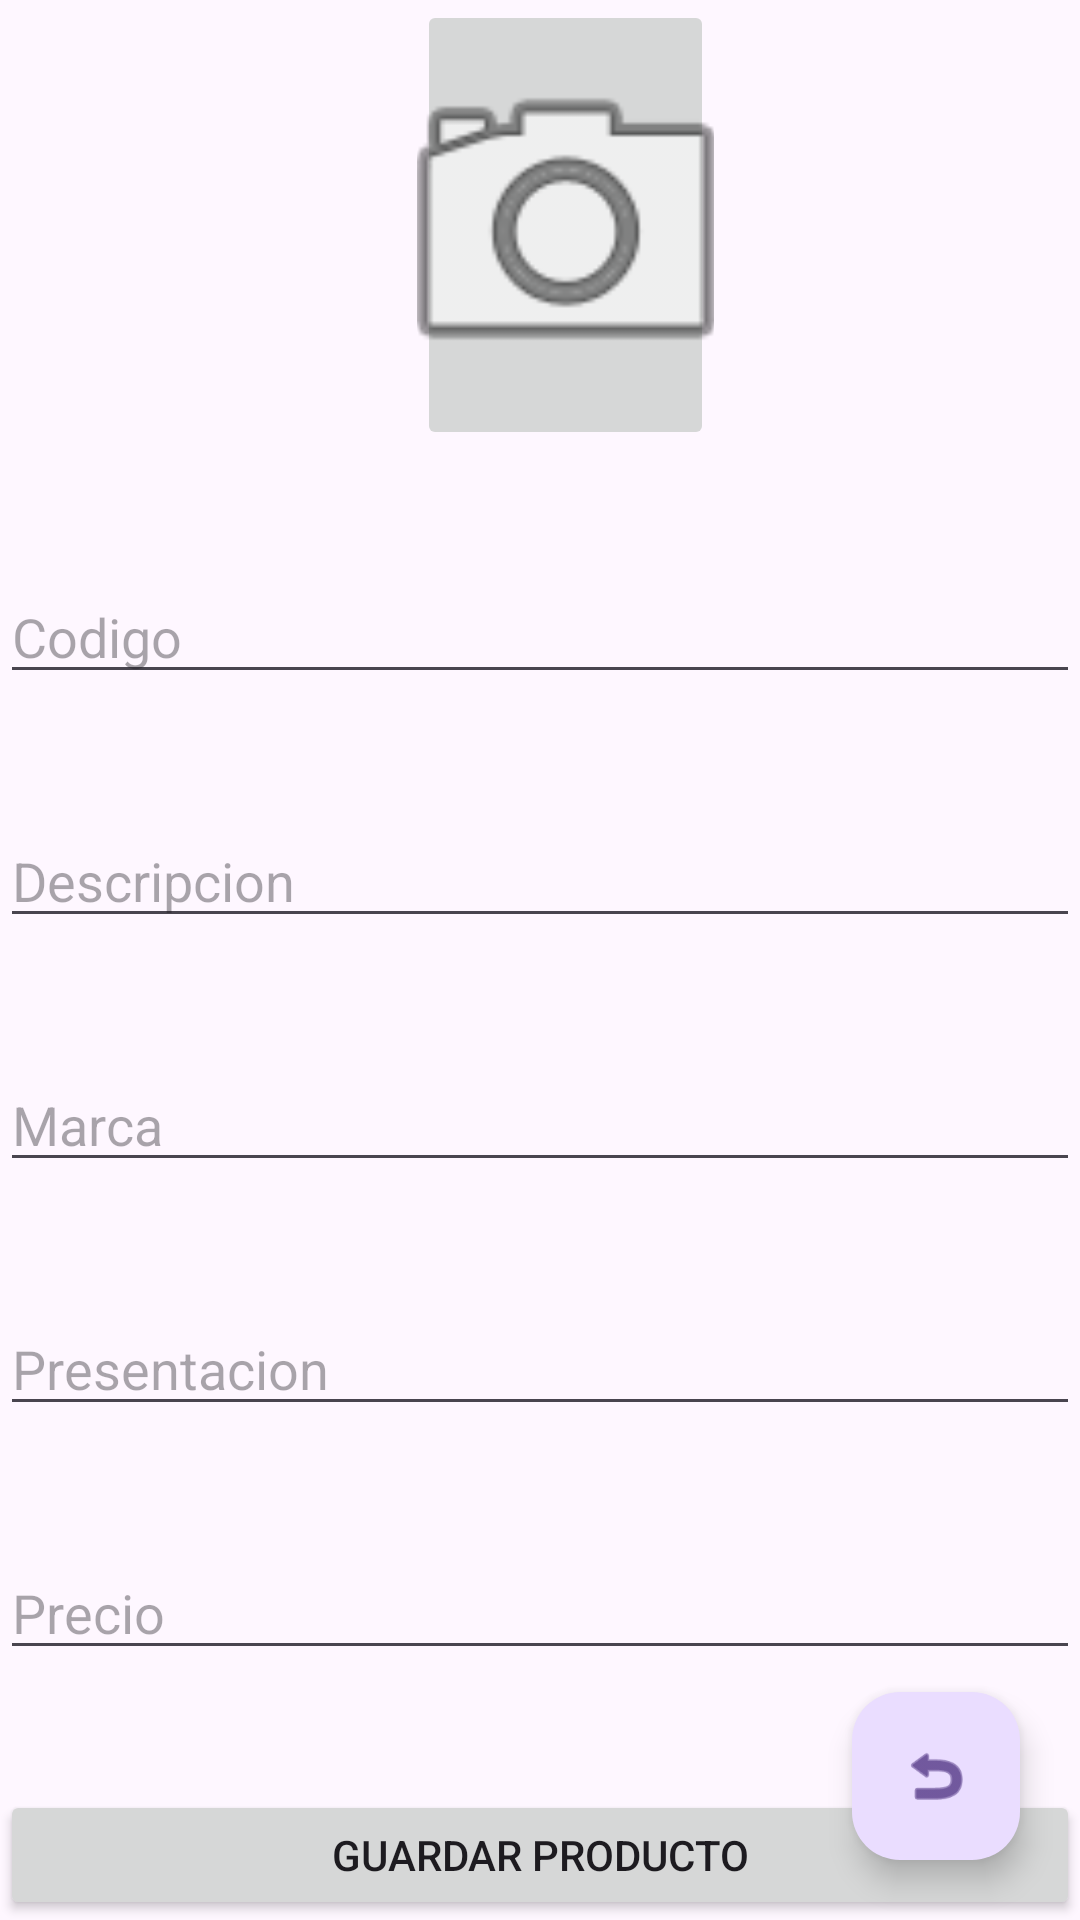

Icon click points for this 1080px×1920px phone screenshot, format [x,y]:
revert: [936,1776]
